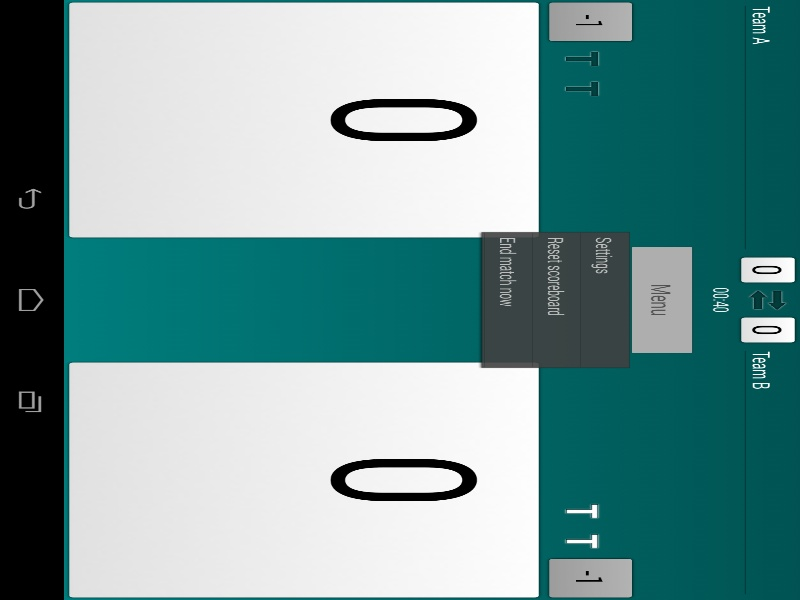Button: (525, 49, 754, 79), (0, 76, 93, 120), (608, 0, 672, 30)
Input: (6, 6, 537, 28)
